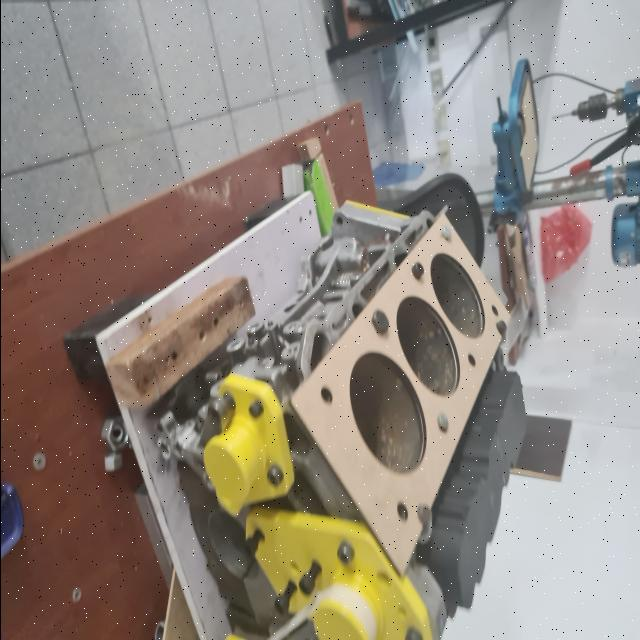vista1: (288, 212, 510, 575)
